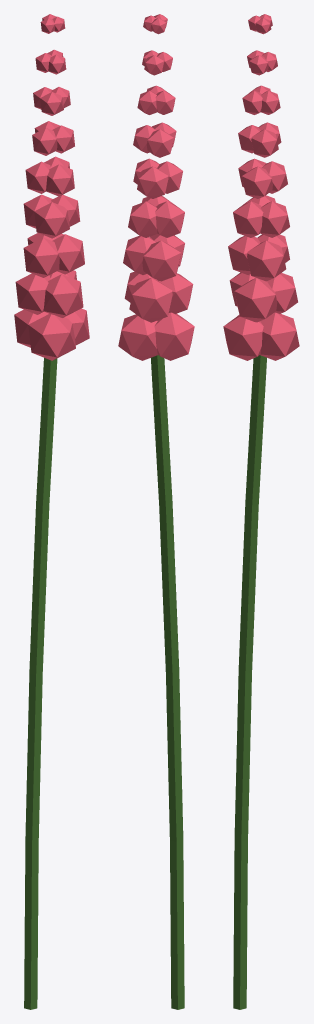
Rendered from lavender.glb.
The picture shows the model from 3 angles, left to right: view 1: azimuth 30°, elevation 25°; view 2: azimuth 210°, elevation 25°; view 3: azimuth 330°, elevation 25°; orthographic projection.
Parts seen in each view (by area): view 1: lavender; view 2: lavender; view 3: lavender.
Part boxes in pixels (x1,y1,x2,y2): lavender: (14,14,89,1009); lavender: (118,14,194,1009); lavender: (223,14,299,1009).
Size of the model in its own units: 0.0248 by 0.3547 by 0.024.
